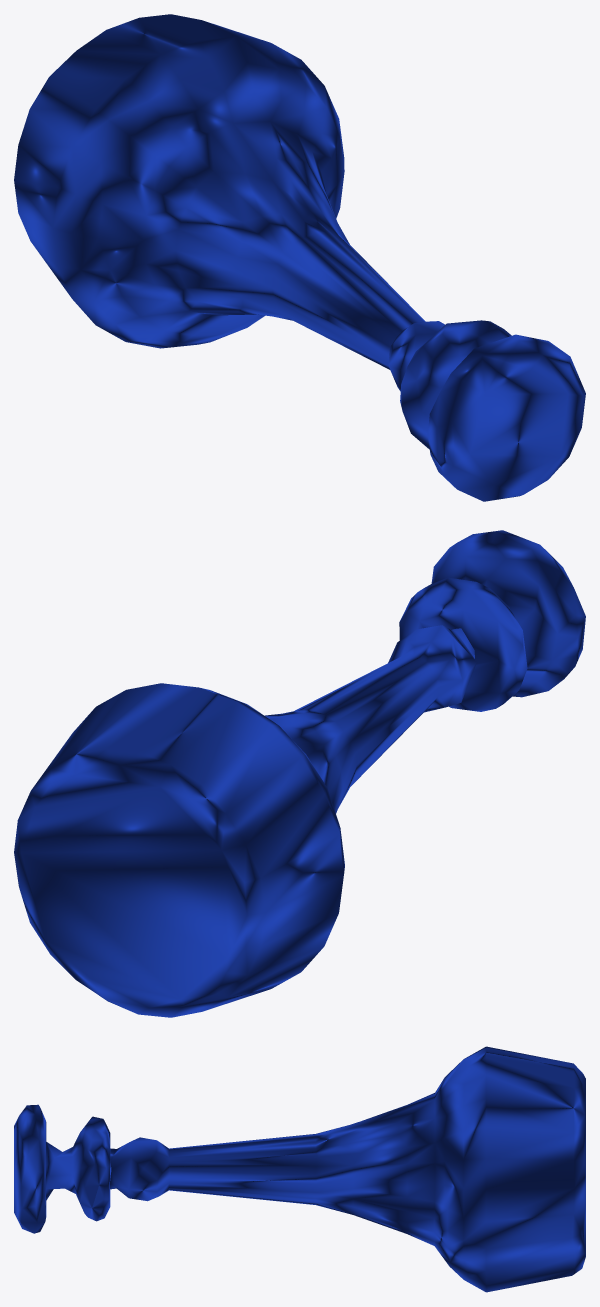
Rendered from model_align.obj.
The picture shows the model from 3 angles, top to bottom: view 1: azimuth 30°, elevation 25°; view 2: azimuth 150°, elevation 25°; view 3: azimuth 270°, elevation 25°; orthographic projection. The views are drawn at different scales.
Bounding box in the file's own units: 0.111 × 0.1109 × 0.2571.
